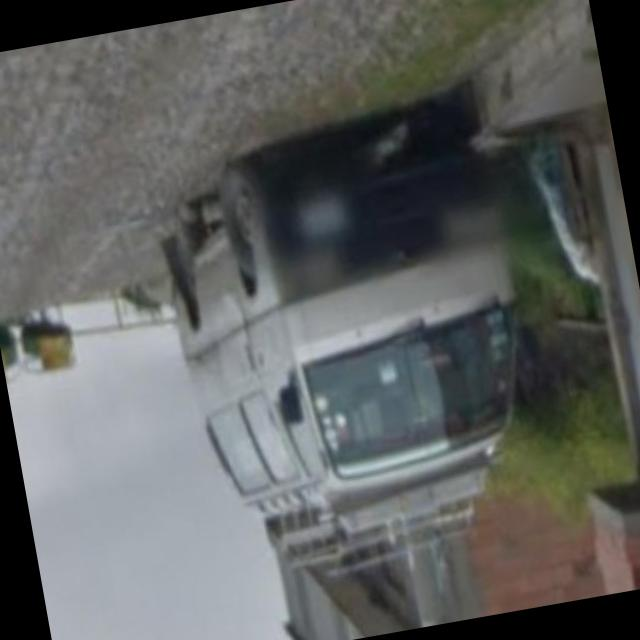car: (137, 99, 557, 548)
